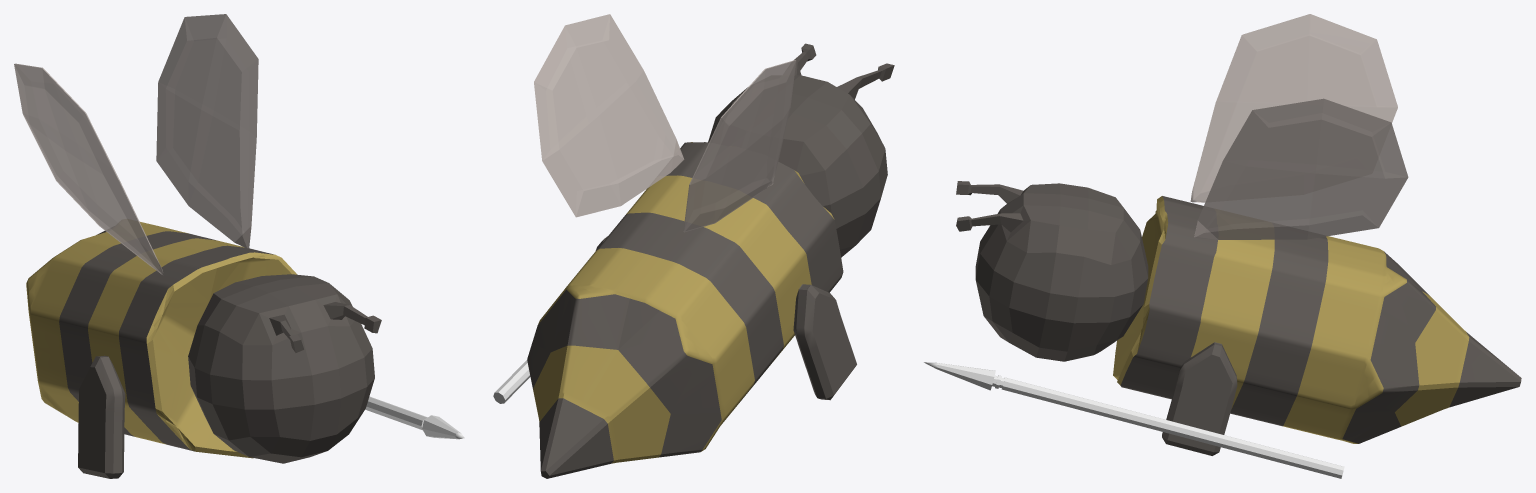
Rendered from bee_guard.fbx.
3 views of the same model, side by side, from view 1: azimuth 30°, elevation 25°; view 2: azimuth 150°, elevation 25°; view 3: azimuth 270°, elevation 25° (orthographic). The views are drawn at different scales.
Visible parts, largest first — view 1: bee_guard; view 2: bee_guard; view 3: bee_guard.
Part boxes in pixels (left/top/right/bottom): bee_guard: left=14, top=14, right=464, bottom=478; bee_guard: left=493, top=14, right=894, bottom=478; bee_guard: left=924, top=14, right=1521, bottom=478.
Size of the model in its own units: 2.48 by 3.52 by 5.13.
